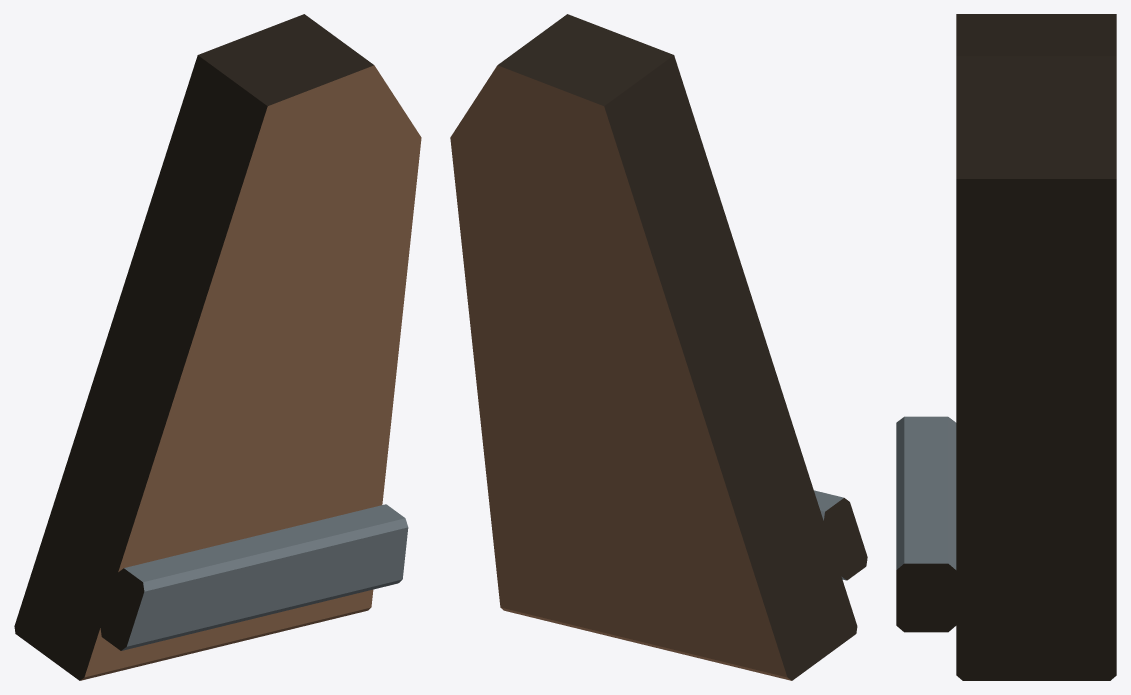
File: SM_DoorShard_02_26.fbx
The picture shows the model from 3 angles, left to right: view 1: azimuth 30°, elevation 25°; view 2: azimuth 150°, elevation 25°; view 3: azimuth 270°, elevation 25°; orthographic projection. The views are drawn at different scales.
Visible parts, largest first — view 1: SM_DoorShard_02_26; view 2: SM_DoorShard_02_26; view 3: SM_DoorShard_02_26.
Part boxes in pixels (box(x1,y1,x2,y2)): SM_DoorShard_02_26: box(14, 14, 421, 680); SM_DoorShard_02_26: box(450, 14, 867, 680); SM_DoorShard_02_26: box(896, 14, 1116, 680).
Bounding box in the file's own units: 44.72 × 22 × 68.92.
